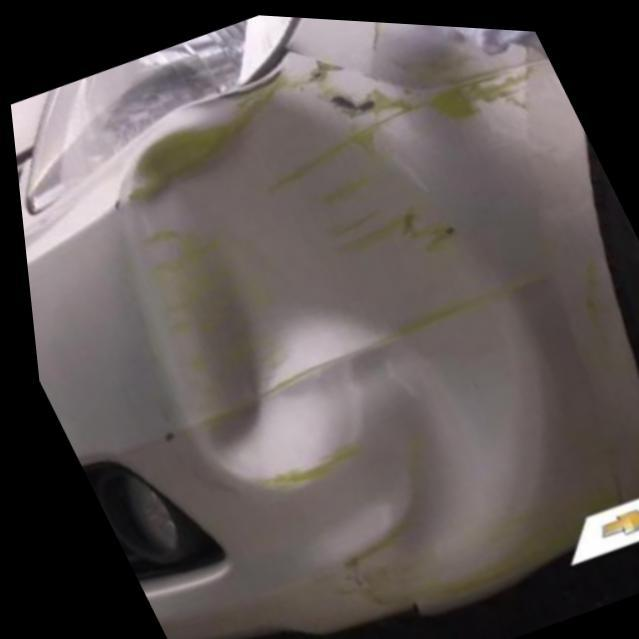dent: (112, 84, 538, 577)
rub: (124, 81, 271, 200), (421, 63, 531, 111)
scratch: (321, 85, 405, 111), (304, 53, 338, 78)
